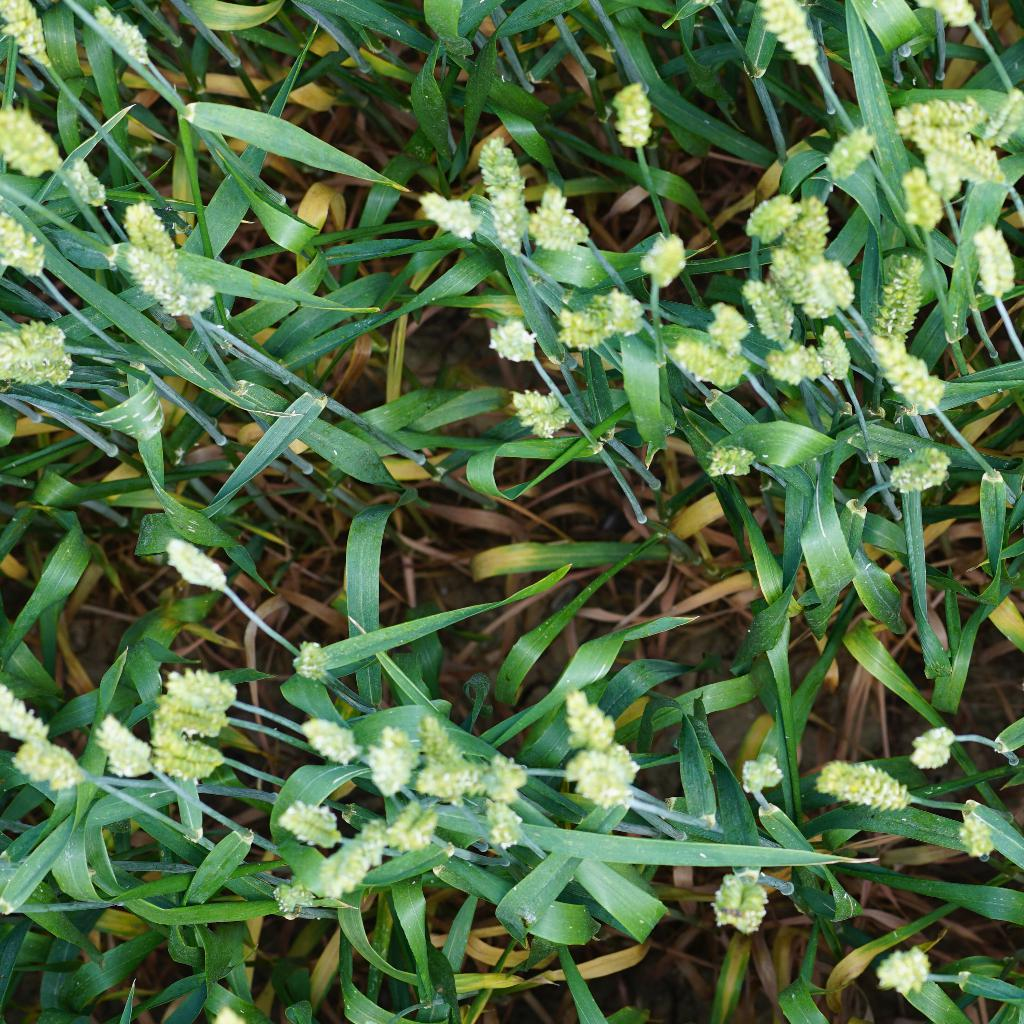0-0: (901, 123, 1013, 192), (118, 247, 218, 324), (309, 819, 392, 899), (814, 756, 924, 816), (868, 252, 929, 357), (870, 333, 947, 412), (735, 0, 823, 67), (562, 748, 645, 818), (554, 294, 653, 350), (118, 200, 188, 276), (0, 102, 68, 180), (473, 134, 533, 222), (768, 248, 839, 320), (362, 726, 422, 806), (710, 858, 772, 934), (520, 199, 597, 260), (9, 735, 99, 787), (0, 324, 72, 388), (670, 333, 750, 390), (155, 667, 248, 716), (602, 78, 658, 158), (150, 730, 236, 782), (410, 712, 469, 787), (92, 711, 158, 777), (969, 225, 1020, 310), (893, 92, 988, 137), (90, 3, 153, 70), (895, 166, 952, 240), (564, 686, 622, 757), (0, 0, 54, 76), (416, 187, 489, 243), (407, 757, 497, 802), (773, 193, 832, 261), (162, 534, 229, 593), (741, 278, 795, 349), (383, 799, 452, 854), (466, 798, 533, 854), (505, 390, 580, 440), (0, 205, 48, 283), (485, 184, 530, 267), (875, 444, 951, 493), (0, 683, 51, 750), (969, 86, 1024, 148), (827, 123, 881, 186), (465, 756, 537, 803), (871, 943, 939, 992), (278, 794, 340, 847), (802, 259, 859, 315), (754, 342, 820, 390), (898, 722, 969, 766), (296, 718, 362, 764), (484, 316, 539, 371), (702, 301, 755, 358), (949, 806, 998, 867), (744, 192, 801, 242), (150, 701, 234, 734), (642, 229, 683, 296), (730, 749, 790, 793), (922, 147, 964, 206), (702, 443, 760, 483), (818, 324, 852, 392), (909, 0, 978, 33), (64, 157, 106, 211), (291, 637, 334, 685), (269, 876, 316, 919)
